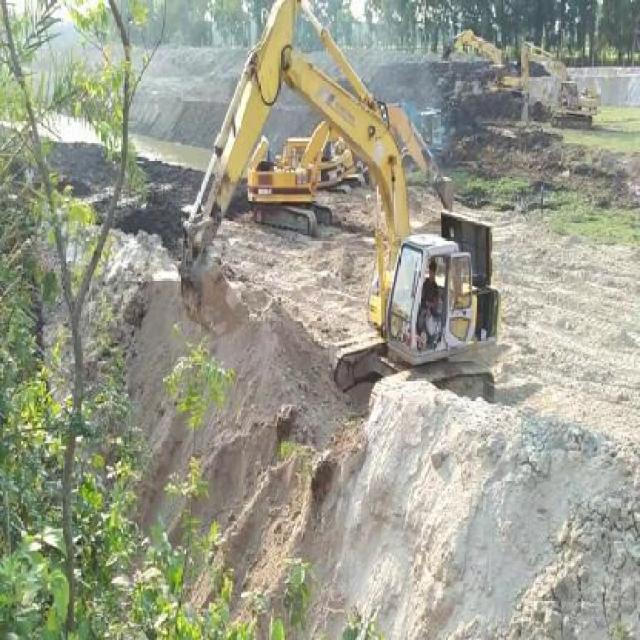Excavator: (176, 0, 499, 405), (519, 37, 601, 128), (442, 27, 520, 91)
